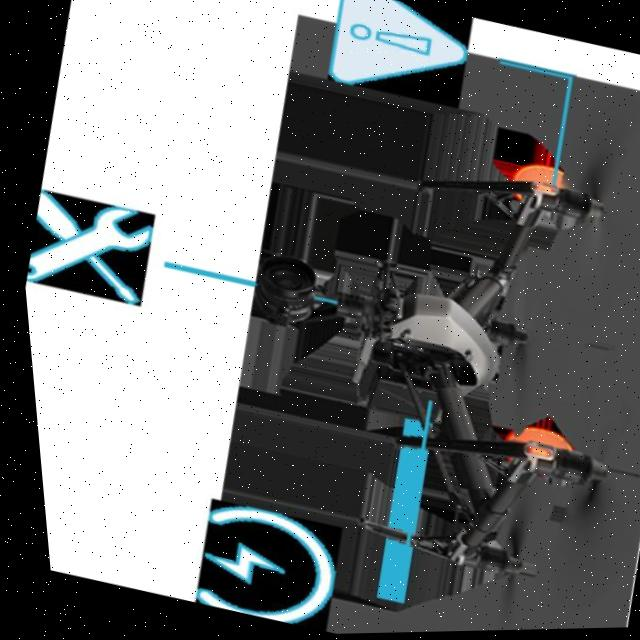drones: (151, 11, 640, 637)
